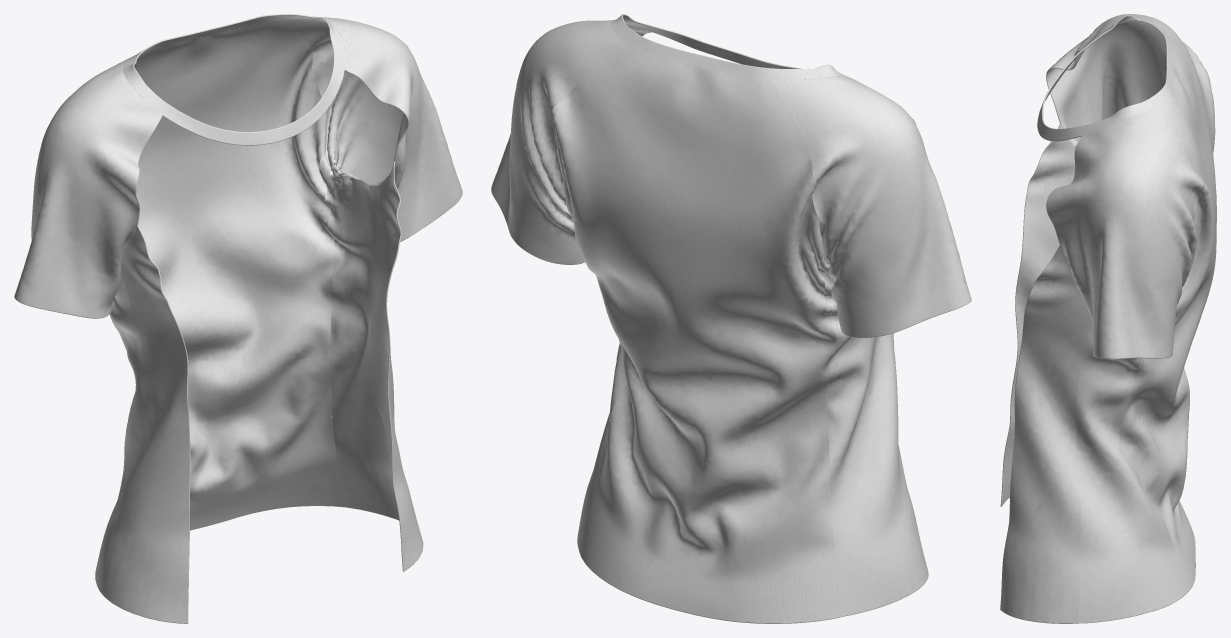
3 renders of one model, left to right at view 1: azimuth 30°, elevation 25°; view 2: azimuth 150°, elevation 25°; view 3: azimuth 270°, elevation 25°, orthographic. The views are drawn at different scales.
Parts seen in each view (by area): view 1: 4, 2; view 2: 2, 4; view 3: 4, 2.
Part boxes in pixels (box(x1,y1,x2,y2)): 4: box(14, 14, 462, 623); 2: box(118, 20, 344, 530); 2: box(551, 46, 843, 623); 4: box(491, 14, 971, 616); 4: box(1000, 14, 1204, 623); 2: box(1118, 37, 1216, 612).
Size of the model in its own units: 48.24 by 53.17 by 20.82.
2 materials, 2 textured.
